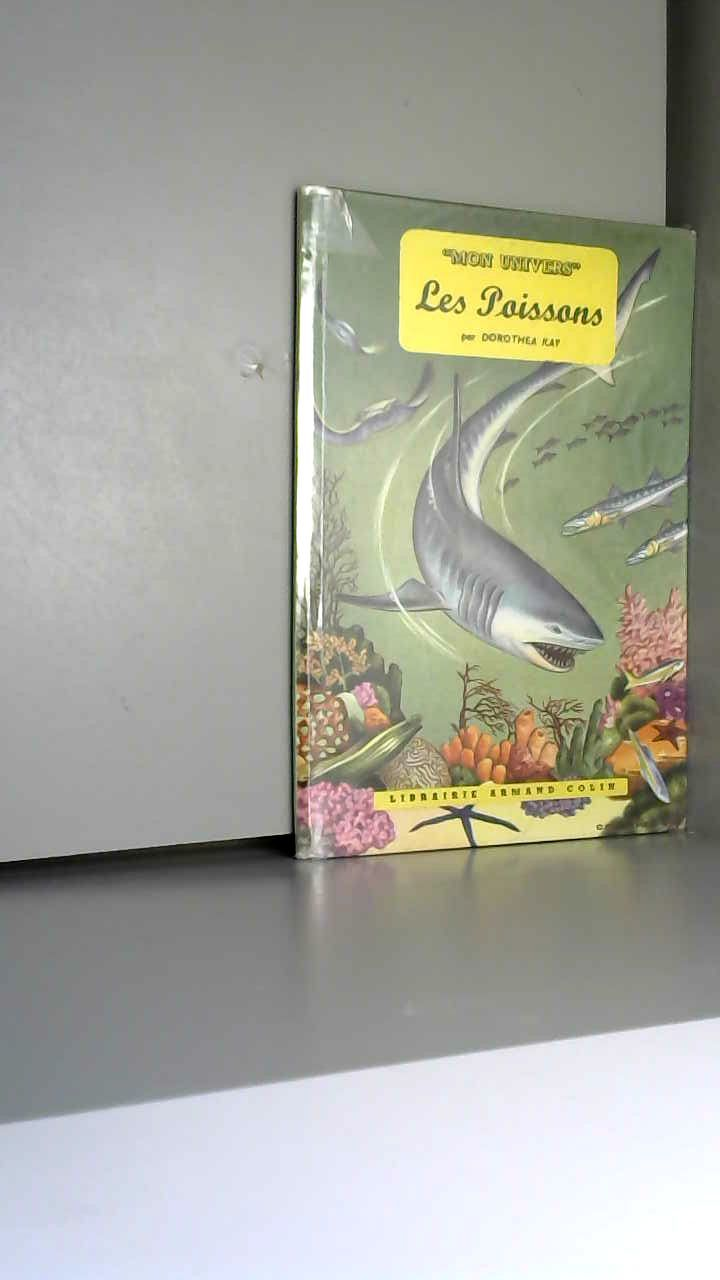book: (260, 160, 720, 932)
